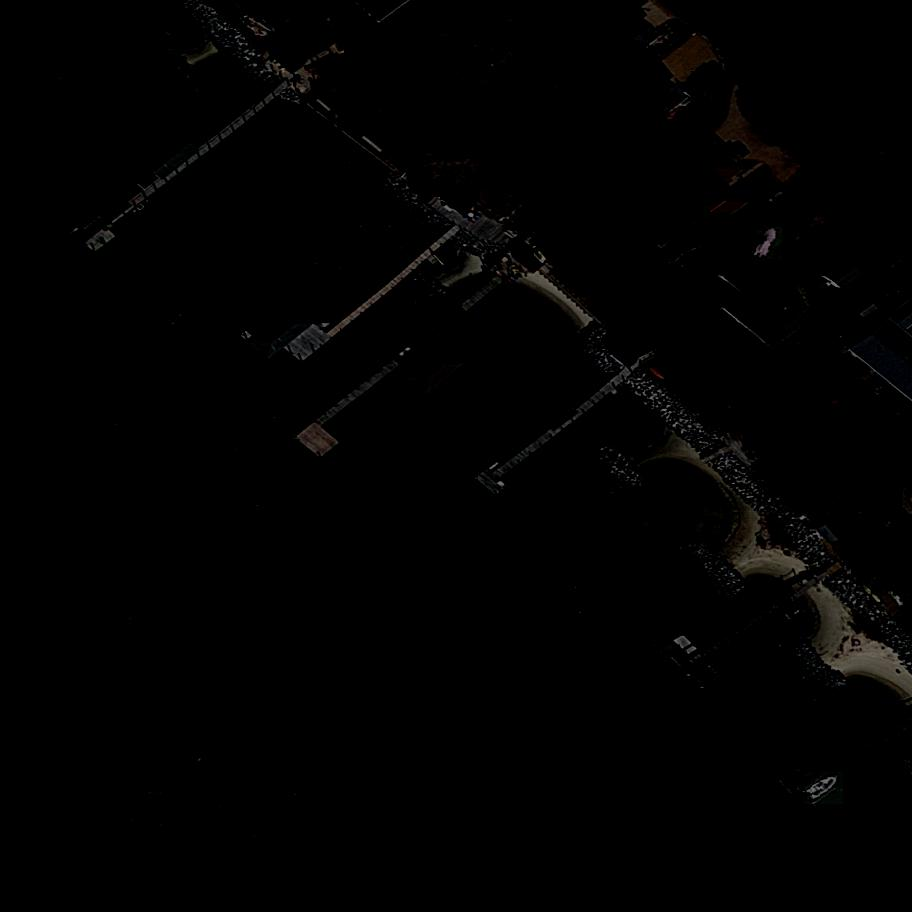ship: (806, 772, 845, 807), (755, 224, 784, 264)
small-vehicle: (691, 71, 727, 94)
